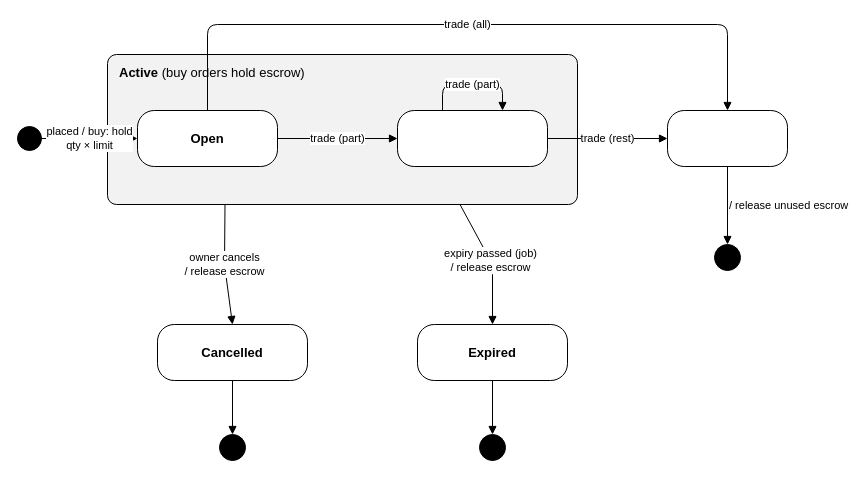
This 866x478 diagram has some shape labels left out. The centre of each missing label's shape, as x and y in pixels:
"Filled" goes at (727,138).
"Partially Filled" goes at (472,138).
